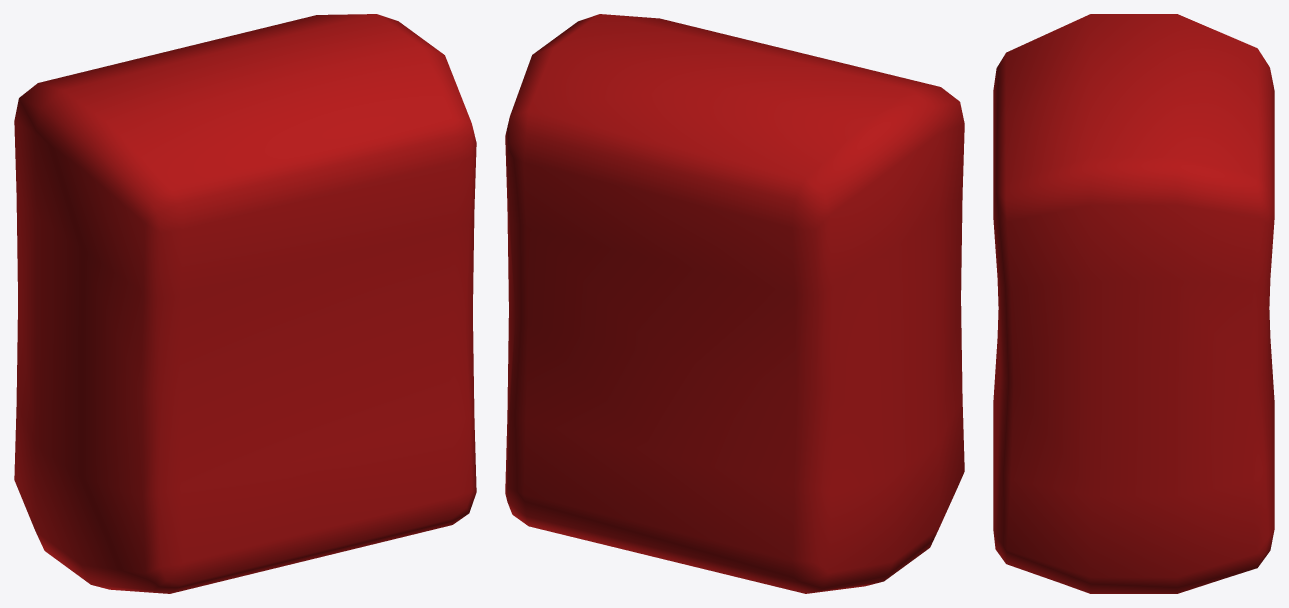
File: red-cube.FBX
3 renders of one model, left to right at view 1: azimuth 30°, elevation 25°; view 2: azimuth 150°, elevation 25°; view 3: azimuth 270°, elevation 25°, orthographic. The views are drawn at different scales.
Visible parts, largest first — view 1: Mesh_Jiong_01; view 2: Mesh_Jiong_01; view 3: Mesh_Jiong_01.
Boxes of the visible parts, x1,y1,x2,y2 form: Mesh_Jiong_01: (14, 14, 476, 593); Mesh_Jiong_01: (505, 14, 964, 593); Mesh_Jiong_01: (993, 14, 1274, 593).
Size of the model in its own units: 5.15 by 6.2 by 3.63.
